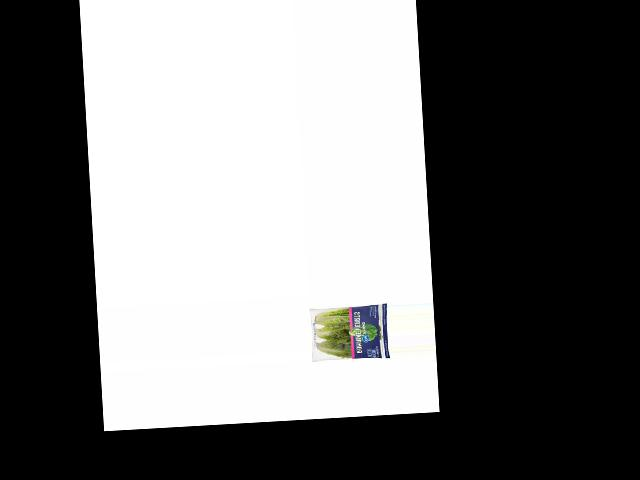lettuce: (311, 301, 388, 364)
